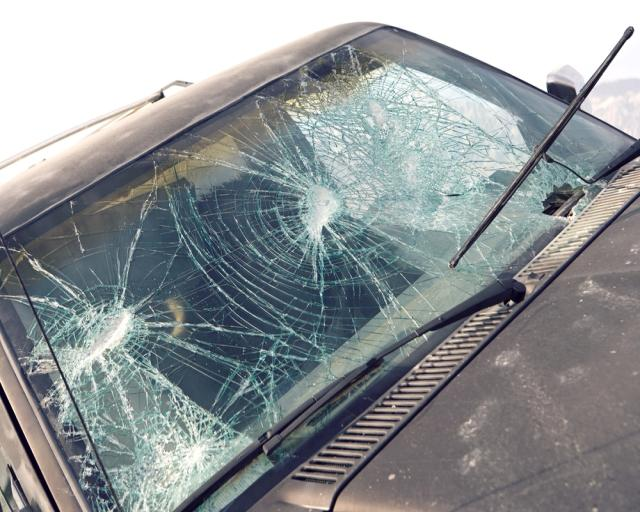glass shatter: (0, 26, 640, 512)
